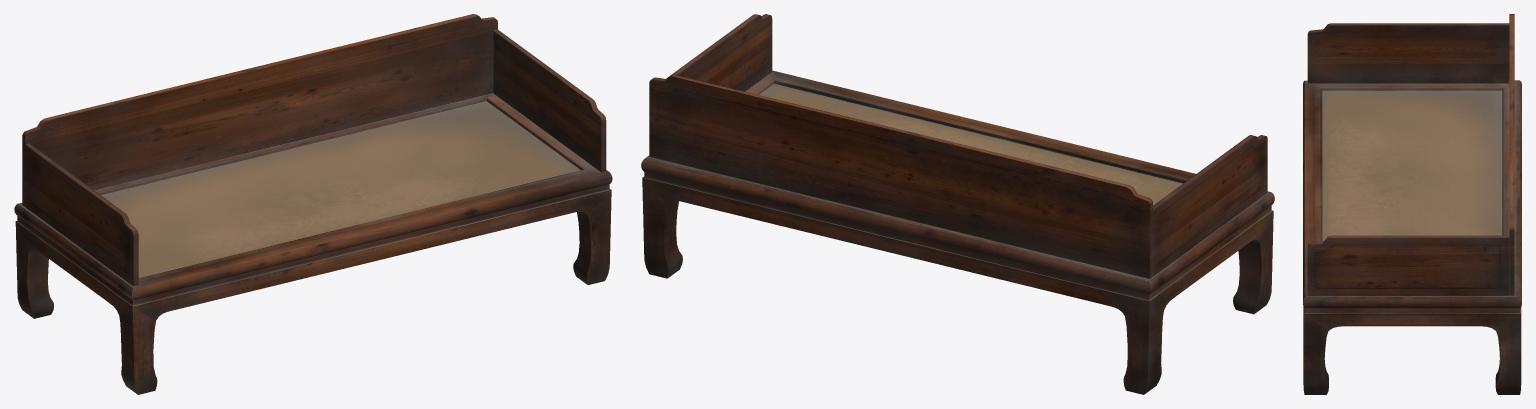
Rendered from chinese_sofa.glb.
The picture shows the model from 3 angles, left to right: view 1: azimuth 30°, elevation 25°; view 2: azimuth 150°, elevation 25°; view 3: azimuth 270°, elevation 25°; orthographic projection. The views are drawn at different scales.
Parts seen in each view (by area): view 1: chinese_sofa; view 2: chinese_sofa; view 3: chinese_sofa.
Boxes of the visible parts, x1,y1,x2,y2 form: chinese_sofa: (14, 14, 612, 394); chinese_sofa: (641, 14, 1274, 394); chinese_sofa: (1303, 14, 1521, 394).
Size of the model in its own units: 2.29 by 0.8599 by 0.9687.
1 material, 1 textured.
